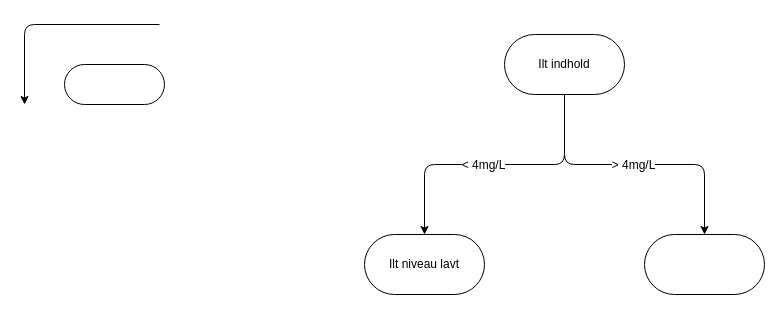
Some shapes in this 782 by 312 pixel diagram are drawn without their labels. The shapes that lost their labels are listed below. From the top down, each one's centre as x and y in pixels, then its label:
At (114,84): "Root".
At (704,264): "Ilt niveau højt".
